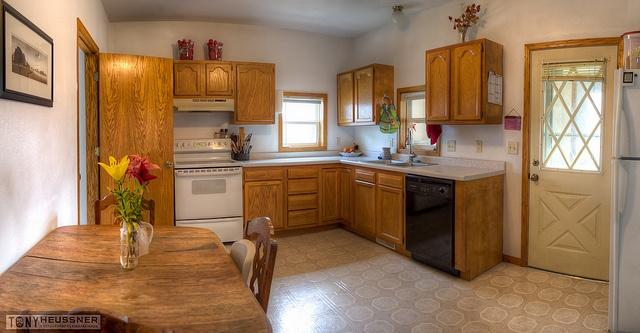Lemari: (423, 37, 504, 125), (334, 61, 395, 127)
